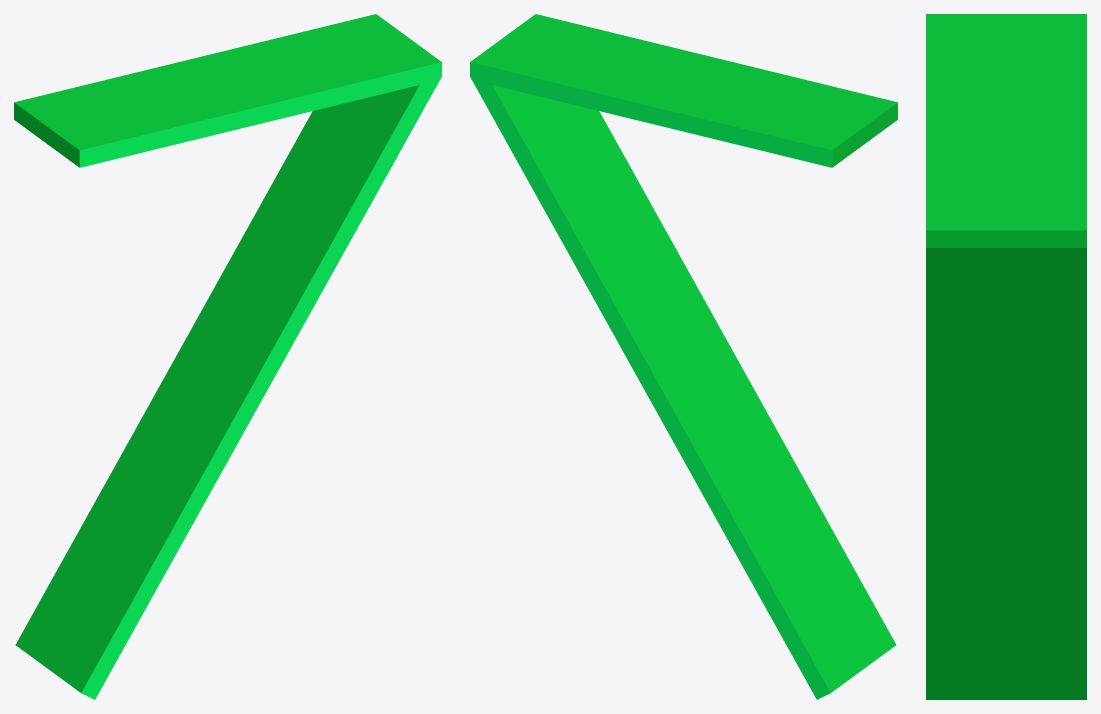
The model's file is 28b28861-0bb4-4303-ada5-419cdf5cf33a.glb.
The picture shows the model from 3 angles, left to right: view 1: azimuth 30°, elevation 25°; view 2: azimuth 150°, elevation 25°; view 3: azimuth 270°, elevation 25°; orthographic projection. The views are drawn at different scales.
Visible parts, largest first — view 1: 7_AlphaProta_Green; view 2: 7_AlphaProta_Green; view 3: 7_AlphaProta_Green.
Part boxes in pixels (bbox=[...]): 7_AlphaProta_Green: bbox=[14, 14, 441, 699]; 7_AlphaProta_Green: bbox=[470, 14, 897, 699]; 7_AlphaProta_Green: bbox=[926, 14, 1086, 699].
Size of what is drawn, in the model's own units: 0.1431 by 0.2089 by 0.045.
Materials: 2 (2 with a texture image).
